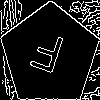F: (25, 30, 67, 83)
